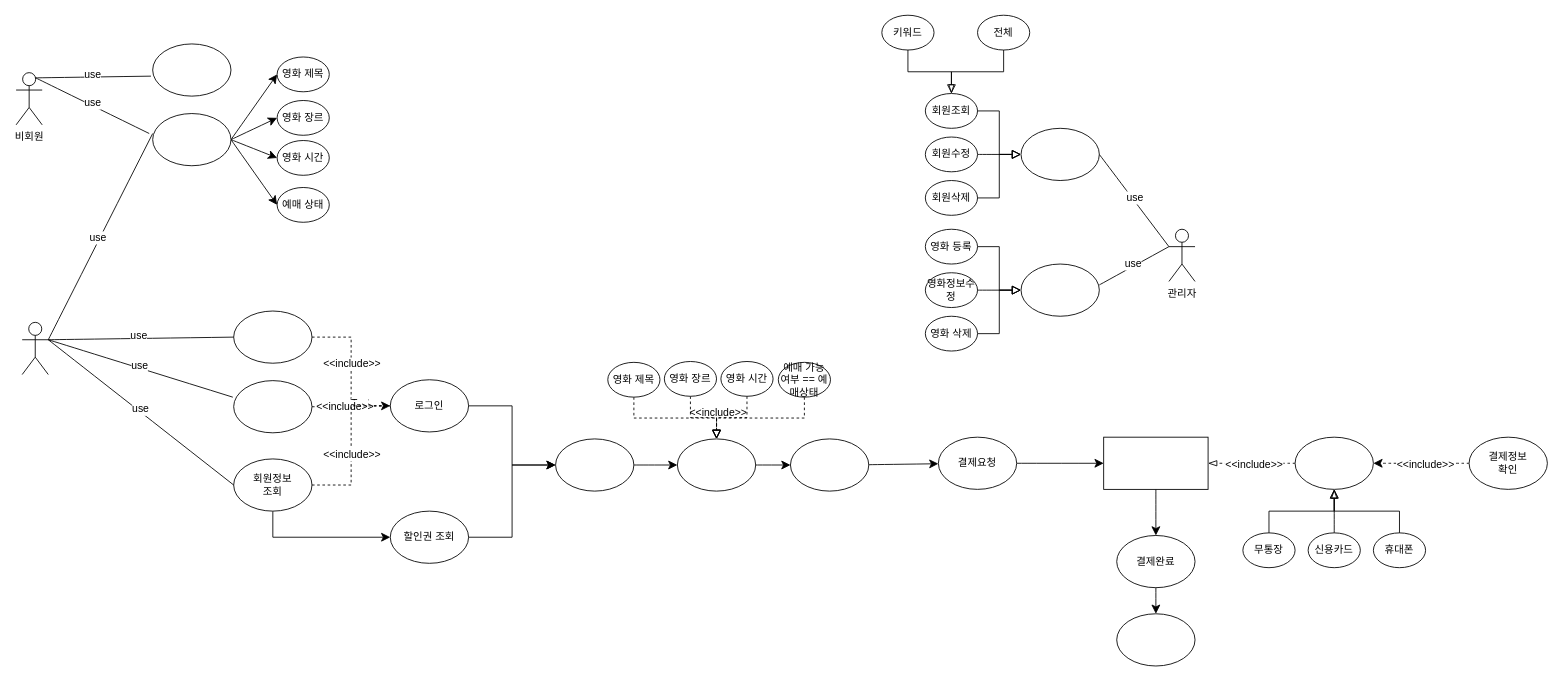
The diagram is 1563 pixels wide and 681 high, and some of its shapes have lost their labels. The centre of each missing label's shape, as x and y in pixels:
"결제방식" goes at pixel 1333 462.
"결제시스템" goes at pixel 1155 462.
"영화선택" goes at pixel 716 464.
"영화정보관리" goes at pixel 1059 289.
"영화조회" goes at pixel 191 139.
"예매" goes at pixel 594 464.
"예매완료" goes at pixel 1155 639.
"할인권선택" goes at pixel 829 464.
"회원" goes at pixel 34 348.
"회원 수정" goes at pixel 272 336.
"회원가입" goes at pixel 191 69.
"회원관리" goes at pixel 1059 154.
"회원탈퇴" goes at pixel 272 406.
